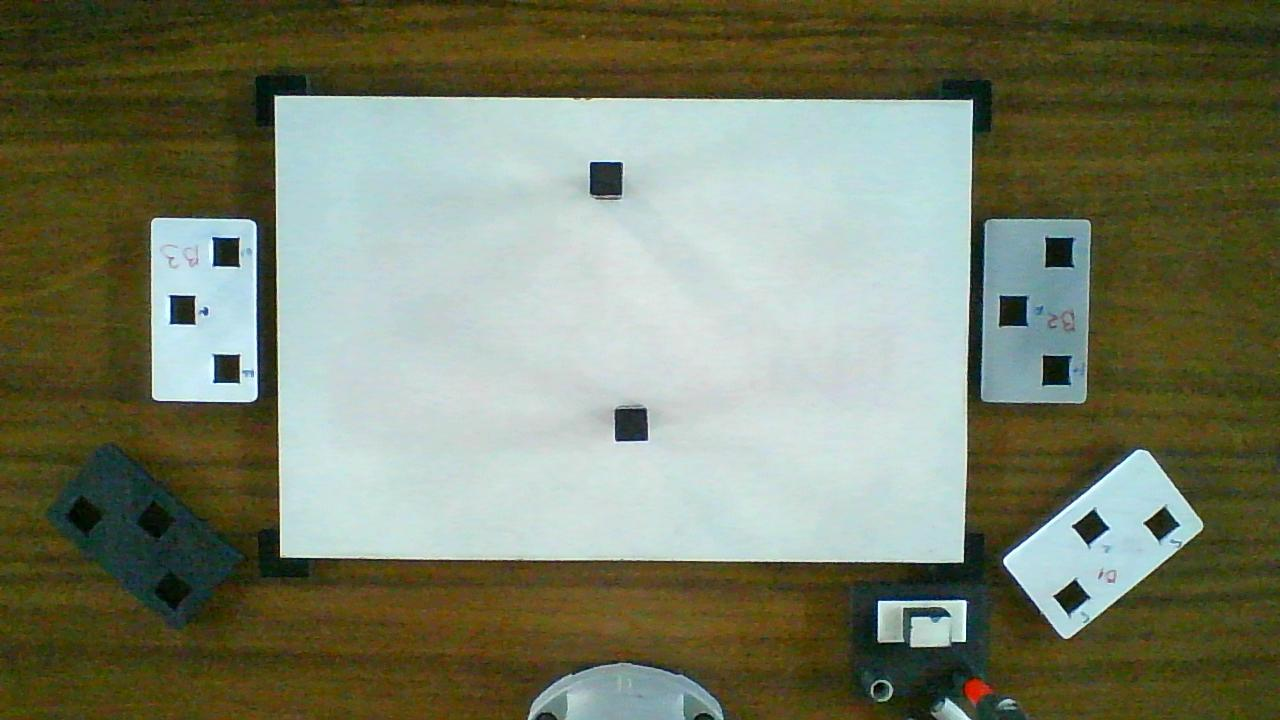peca_preta: (590, 162, 621, 195), (615, 410, 648, 440)
